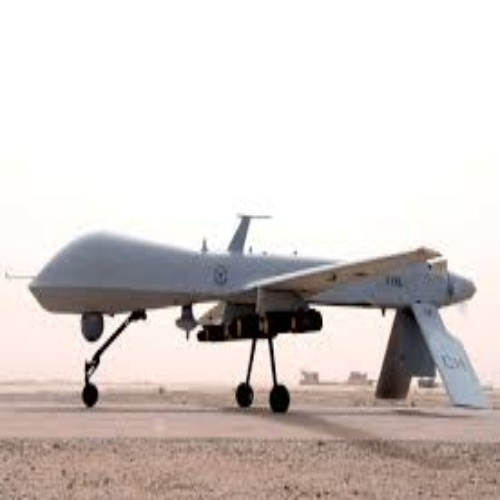uav352: (4, 208, 494, 413)
